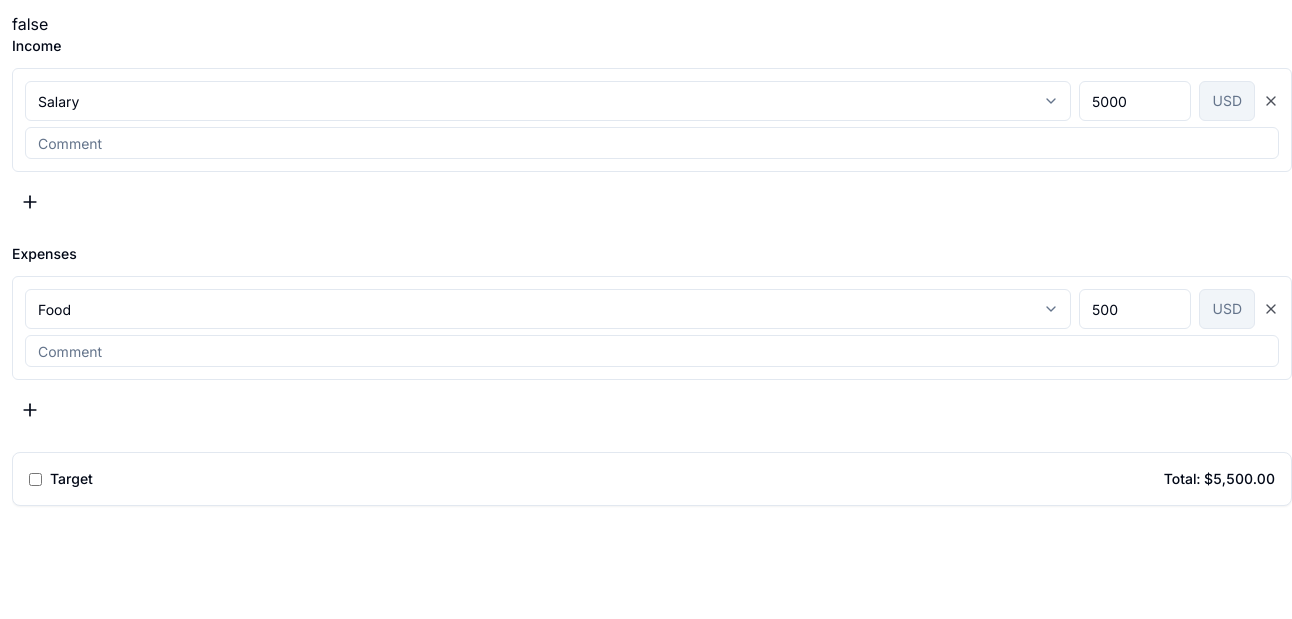
Test: target total mode › seeds the target with the current total when the toggle is switched on
The width and height of the screenshot is (1292, 619).
Click the checkbox labelled "Target" at (36, 479), box [29,472,42,486]
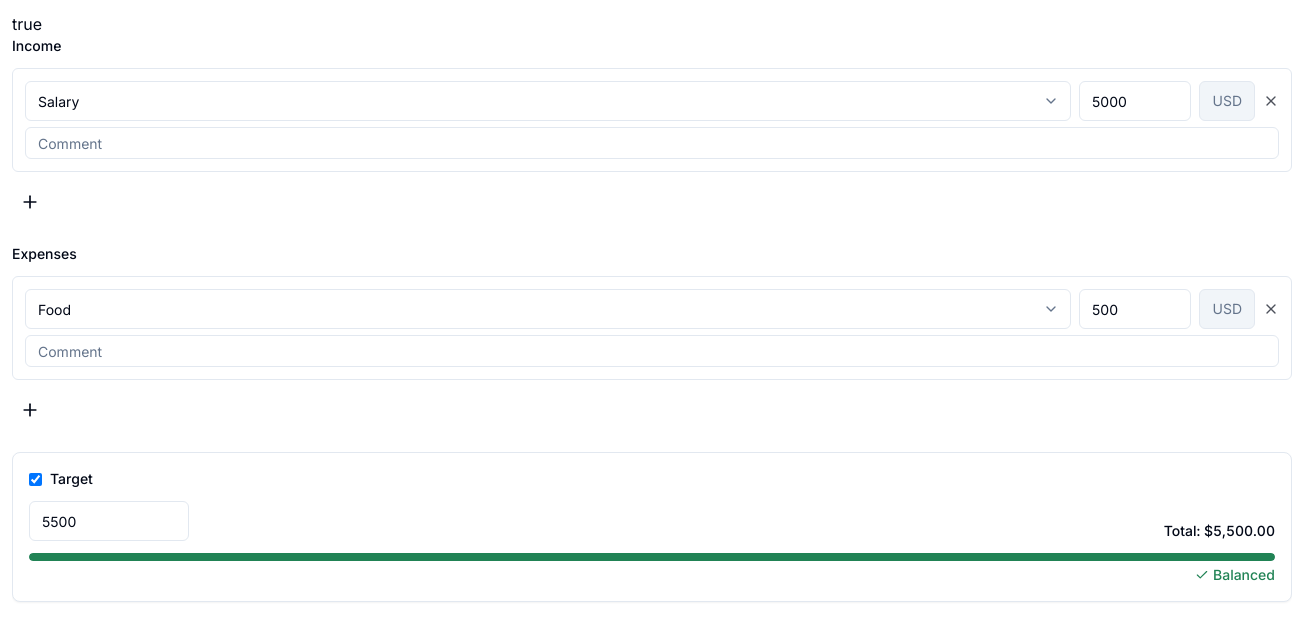
Result: the number field named "Target total" holds "5500" at [29,501,189,541]
